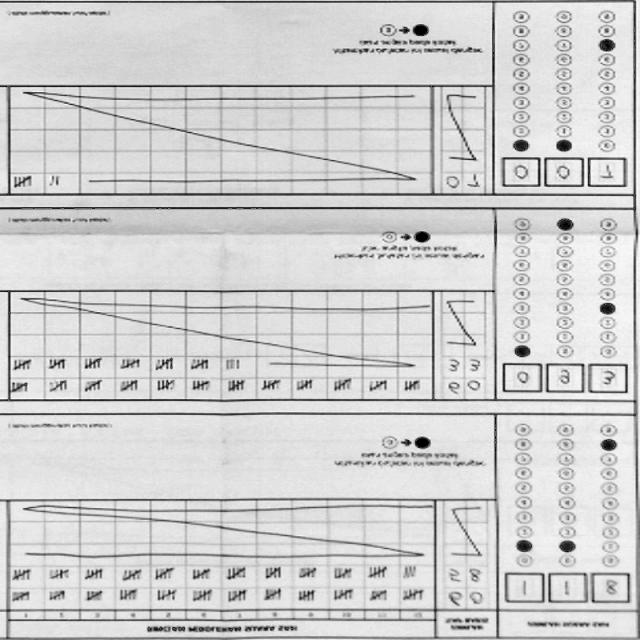Suara: (498, 361, 630, 400), (498, 153, 630, 192), (502, 568, 632, 607)
